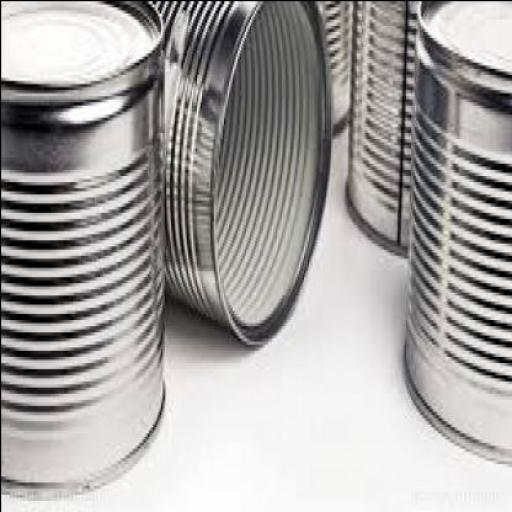metal: (2, 0, 167, 497), (146, 1, 332, 347), (401, 1, 511, 462), (344, 0, 424, 261), (314, 1, 356, 132)
